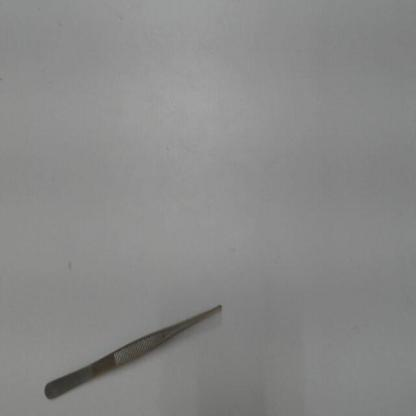Gillies Toothed Dissector: (30, 293, 228, 405)
